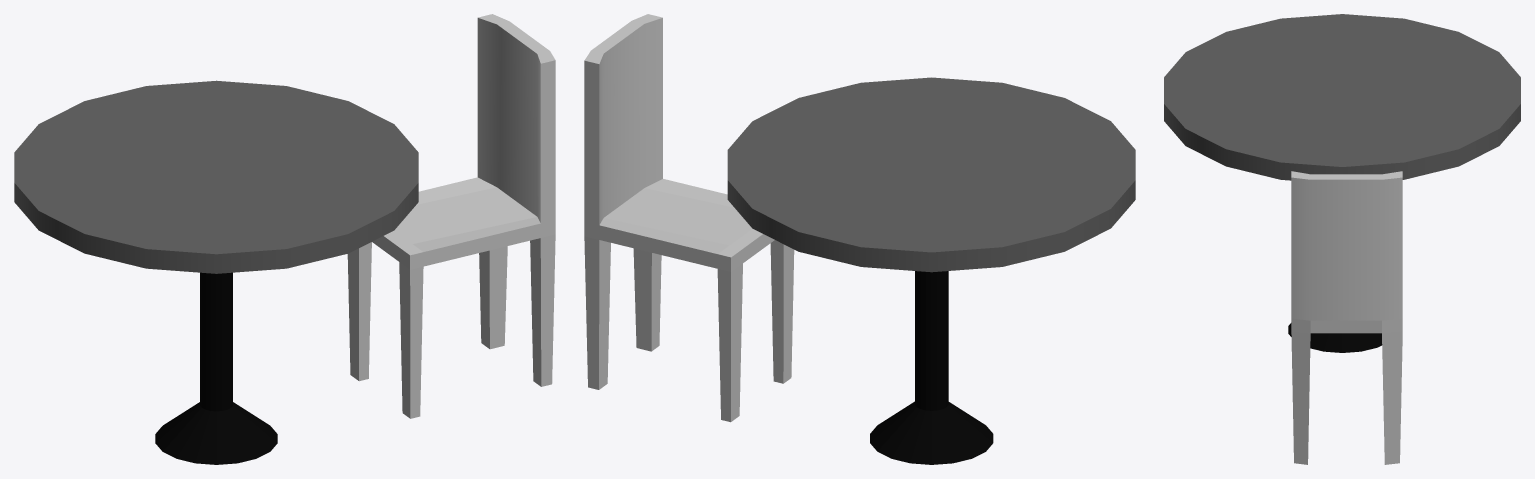
Rendered from table & chair.fbx.
3 views of the same model, side by side, from view 1: azimuth 30°, elevation 25°; view 2: azimuth 150°, elevation 25°; view 3: azimuth 270°, elevation 25° (orthographic). The views are drawn at different scales.
Parts seen in each view (by area): view 1: Cylinder001, Box001; view 2: Cylinder001, Box001; view 3: Cylinder001, Box001.
Part boxes in pixels (x1,y1,x2,y2): Cylinder001: [14, 80, 418, 464]; Box001: [347, 14, 555, 418]; Cylinder001: [727, 77, 1135, 464]; Box001: [584, 14, 794, 422]; Cylinder001: [1164, 14, 1520, 352]; Box001: [1291, 171, 1402, 464].
Bounding box in the file's own units: 143 × 89.89 × 101.
1 material, 1 textured.
